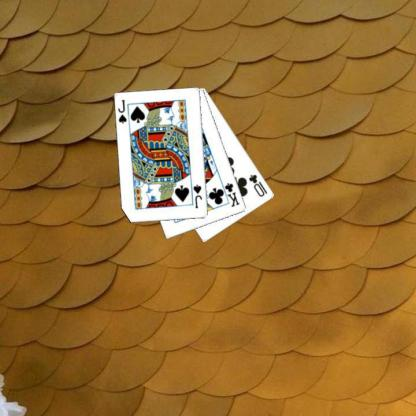10C: (246, 172, 269, 198)
JS: (191, 182, 203, 209), (116, 98, 128, 124)
KC: (218, 180, 241, 208)
